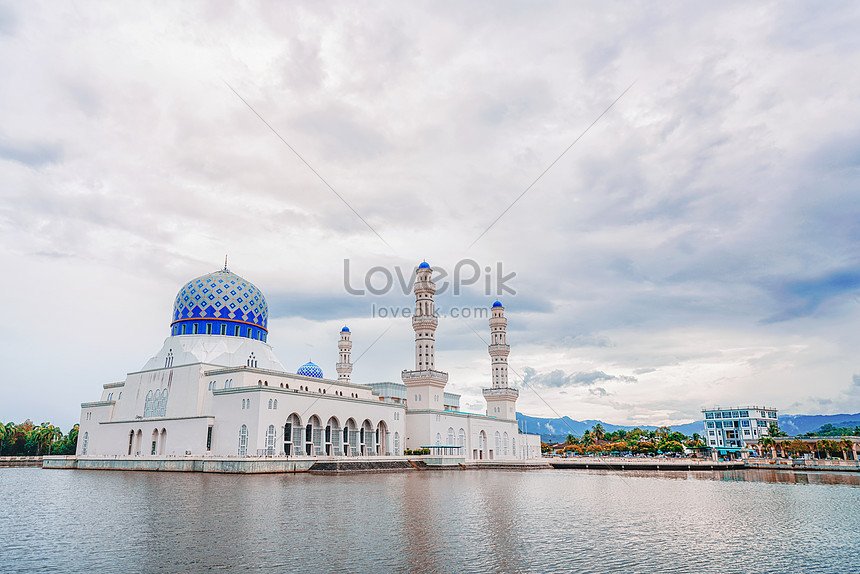Mosque: (79, 236, 541, 462)
